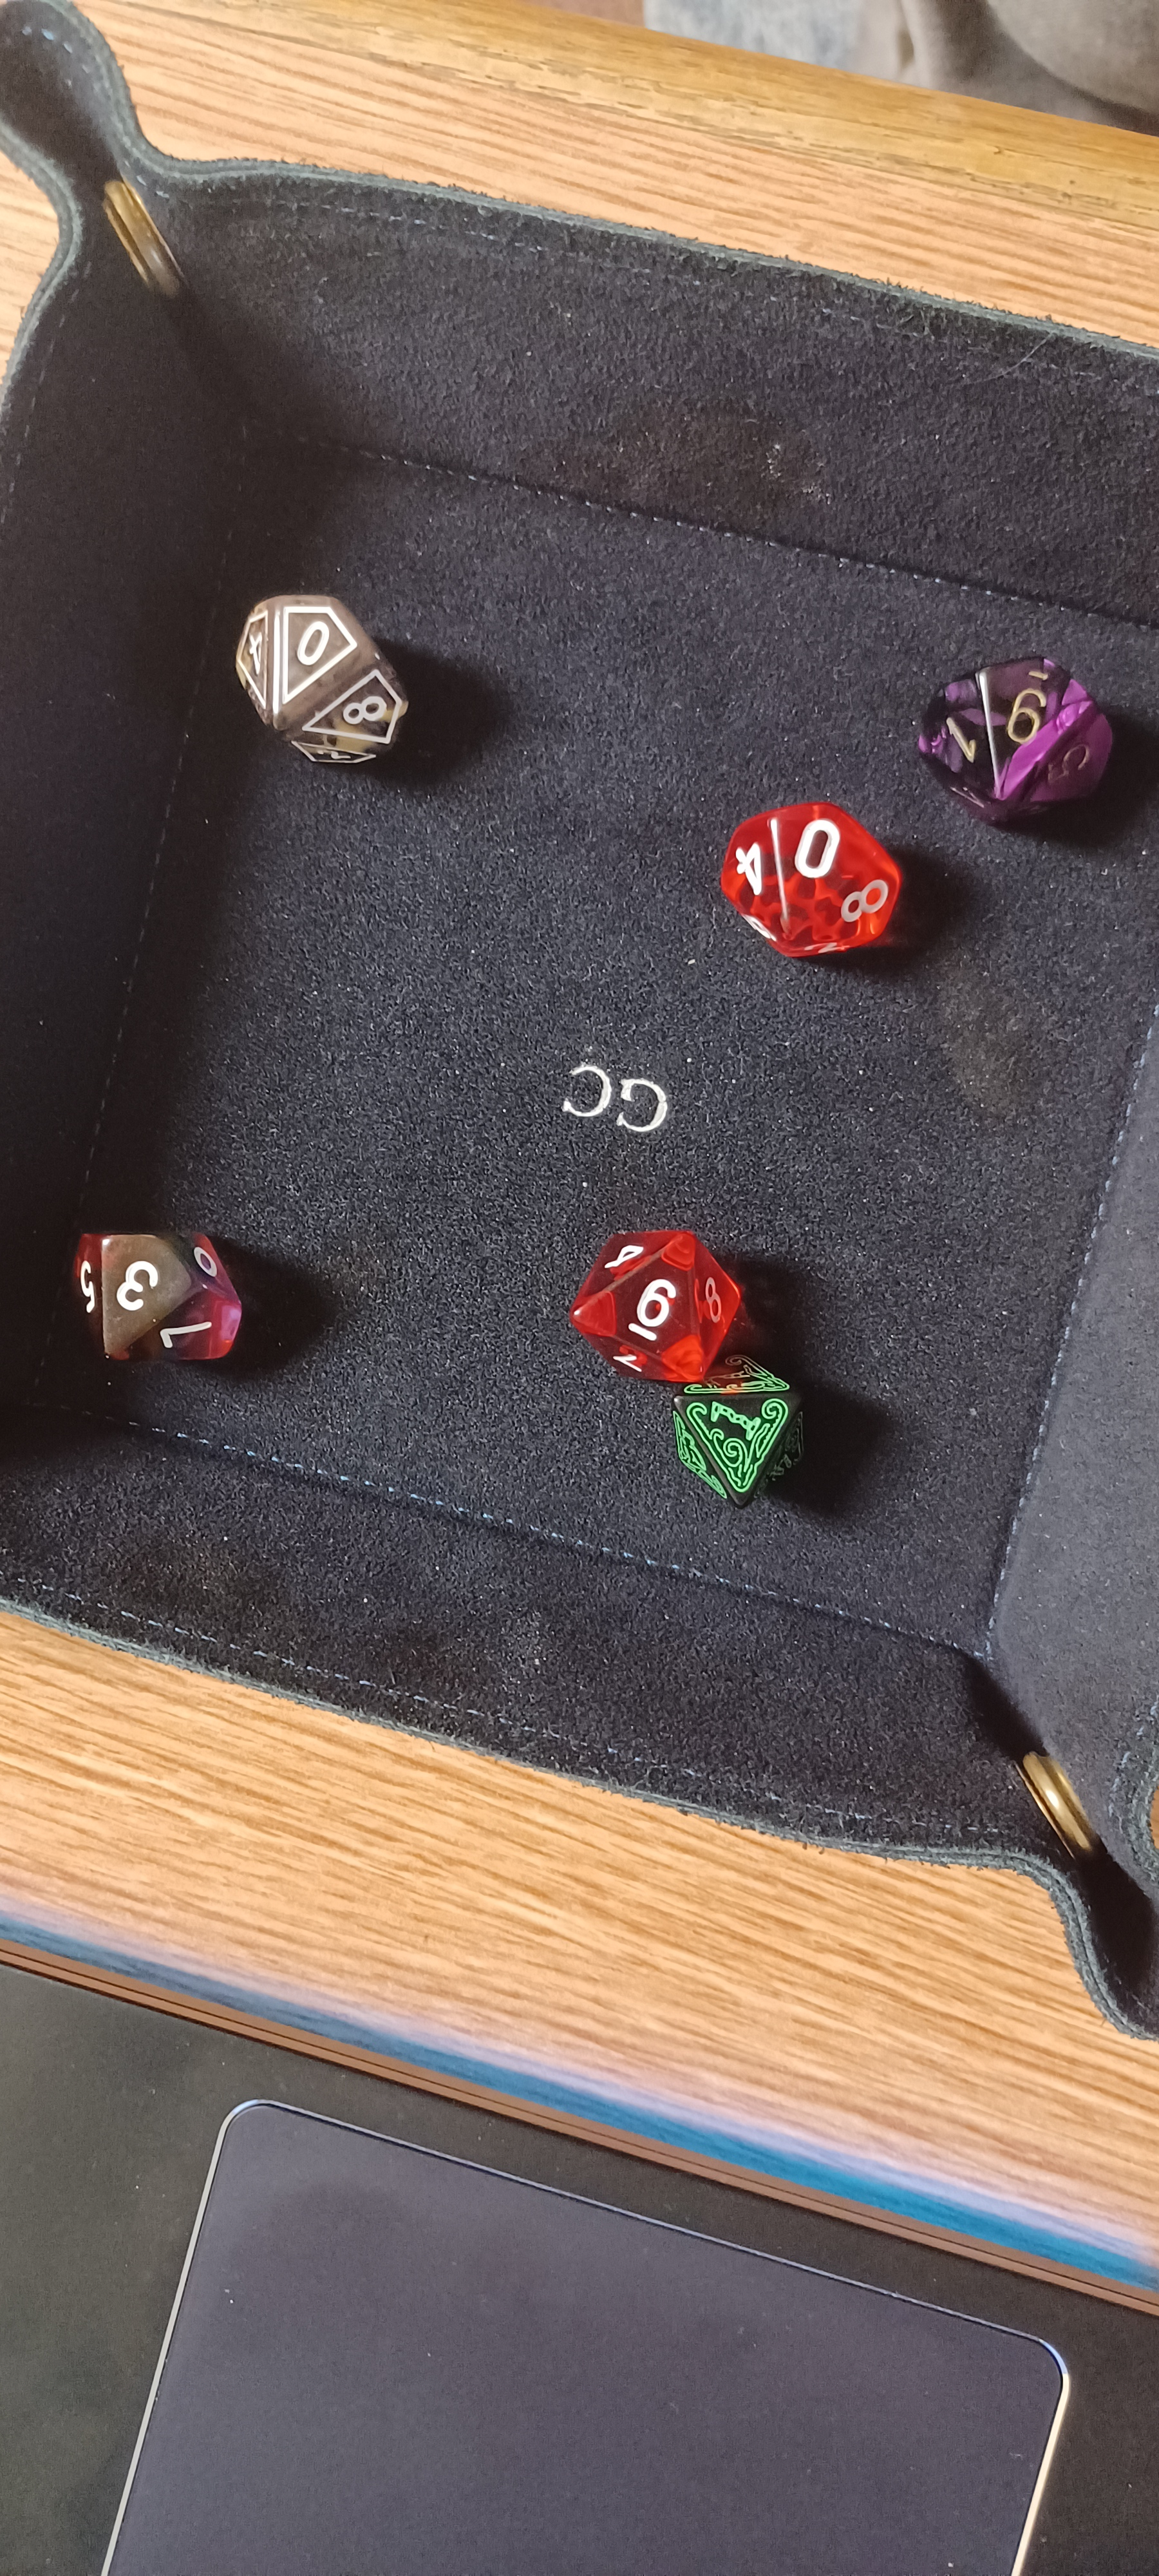nine: (868, 613, 1141, 831)
one: (639, 1337, 867, 1526)
six: (535, 1201, 804, 1393)
three: (43, 1186, 277, 1408)
zero: (182, 552, 479, 812), (681, 780, 941, 994)
